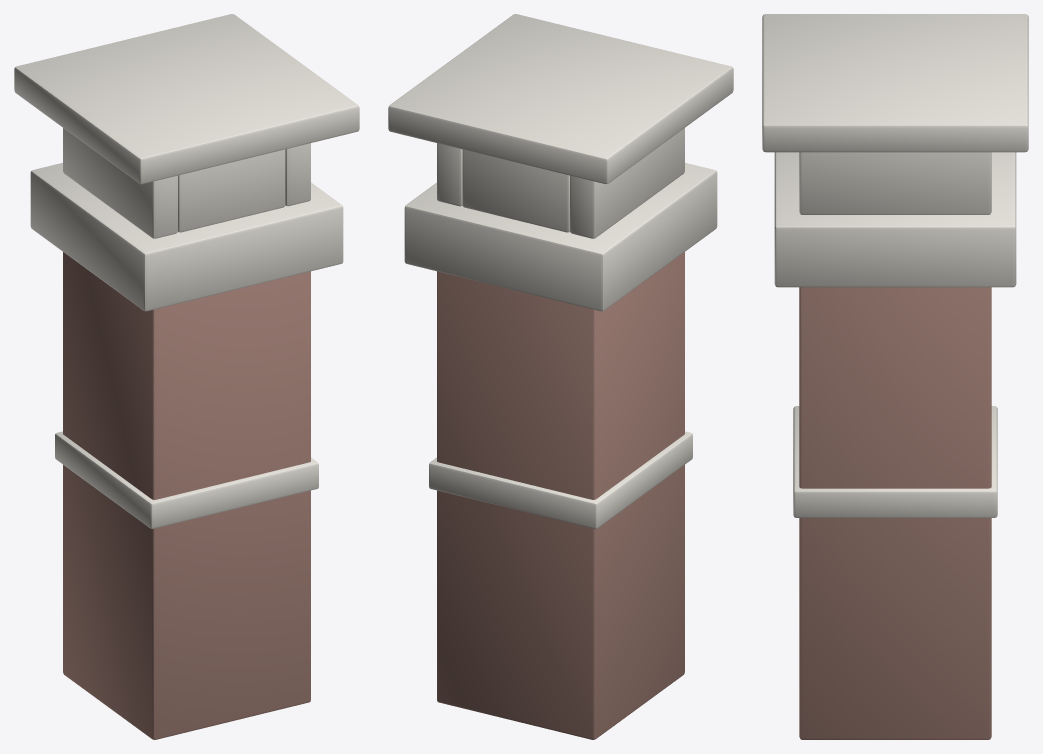
The model's file is th34_kamin.glb.
3 views of the same model, side by side, from view 1: azimuth 30°, elevation 25°; view 2: azimuth 150°, elevation 25°; view 3: azimuth 270°, elevation 25° (orthographic). The views are drawn at different scales.
Visible parts, largest first — view 1: Cube, Cube.006, Cube.001, Cube.007, Cube.003, Cube.002, Cube.004; view 2: Cube, Cube.006, Cube.001, Cube.007, Cube.005, Cube.002, Cube.004; view 3: Cube, Cube.006, Cube.001, Cube.004, Cube.007.
Part boxes in pixels (left/top/right/bottom): Cube: left=63, top=252, right=310, bottom=739; Cube.006: left=14, top=14, right=359, bottom=184; Cube.001: left=30, top=163, right=343, bottom=311; Cube.007: left=55, top=431, right=318, bottom=528; Cube.003: left=178, top=149, right=285, bottom=232; Cube.002: left=63, top=128, right=177, bottom=238; Cube.004: left=285, top=143, right=310, bottom=206; Cube: left=437, top=252, right=684, bottom=739; Cube.006: left=388, top=14, right=733, bottom=184; Cube.001: left=404, top=163, right=717, bottom=311; Cube.007: left=429, top=431, right=692, bottom=528; Cube.005: left=462, top=149, right=569, bottom=232; Cube.002: left=570, top=128, right=684, bottom=238; Cube.004: left=437, top=143, right=462, bottom=206; Cube: left=799, top=287, right=991, bottom=739; Cube.006: left=762, top=14, right=1028, bottom=152; Cube.001: left=774, top=152, right=1016, bottom=287; Cube.004: left=799, top=152, right=991, bottom=214; Cube.007: left=793, top=406, right=997, bottom=517.
Bounding box in the file's own units: 0.86 × 2.25 × 0.86.
